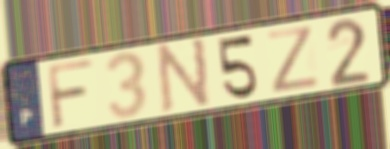2: (325, 13, 374, 89)
3: (103, 49, 152, 122)
5: (215, 34, 260, 101)
F: (44, 57, 96, 132)
N: (157, 35, 212, 116)
Z: (265, 23, 323, 96)
